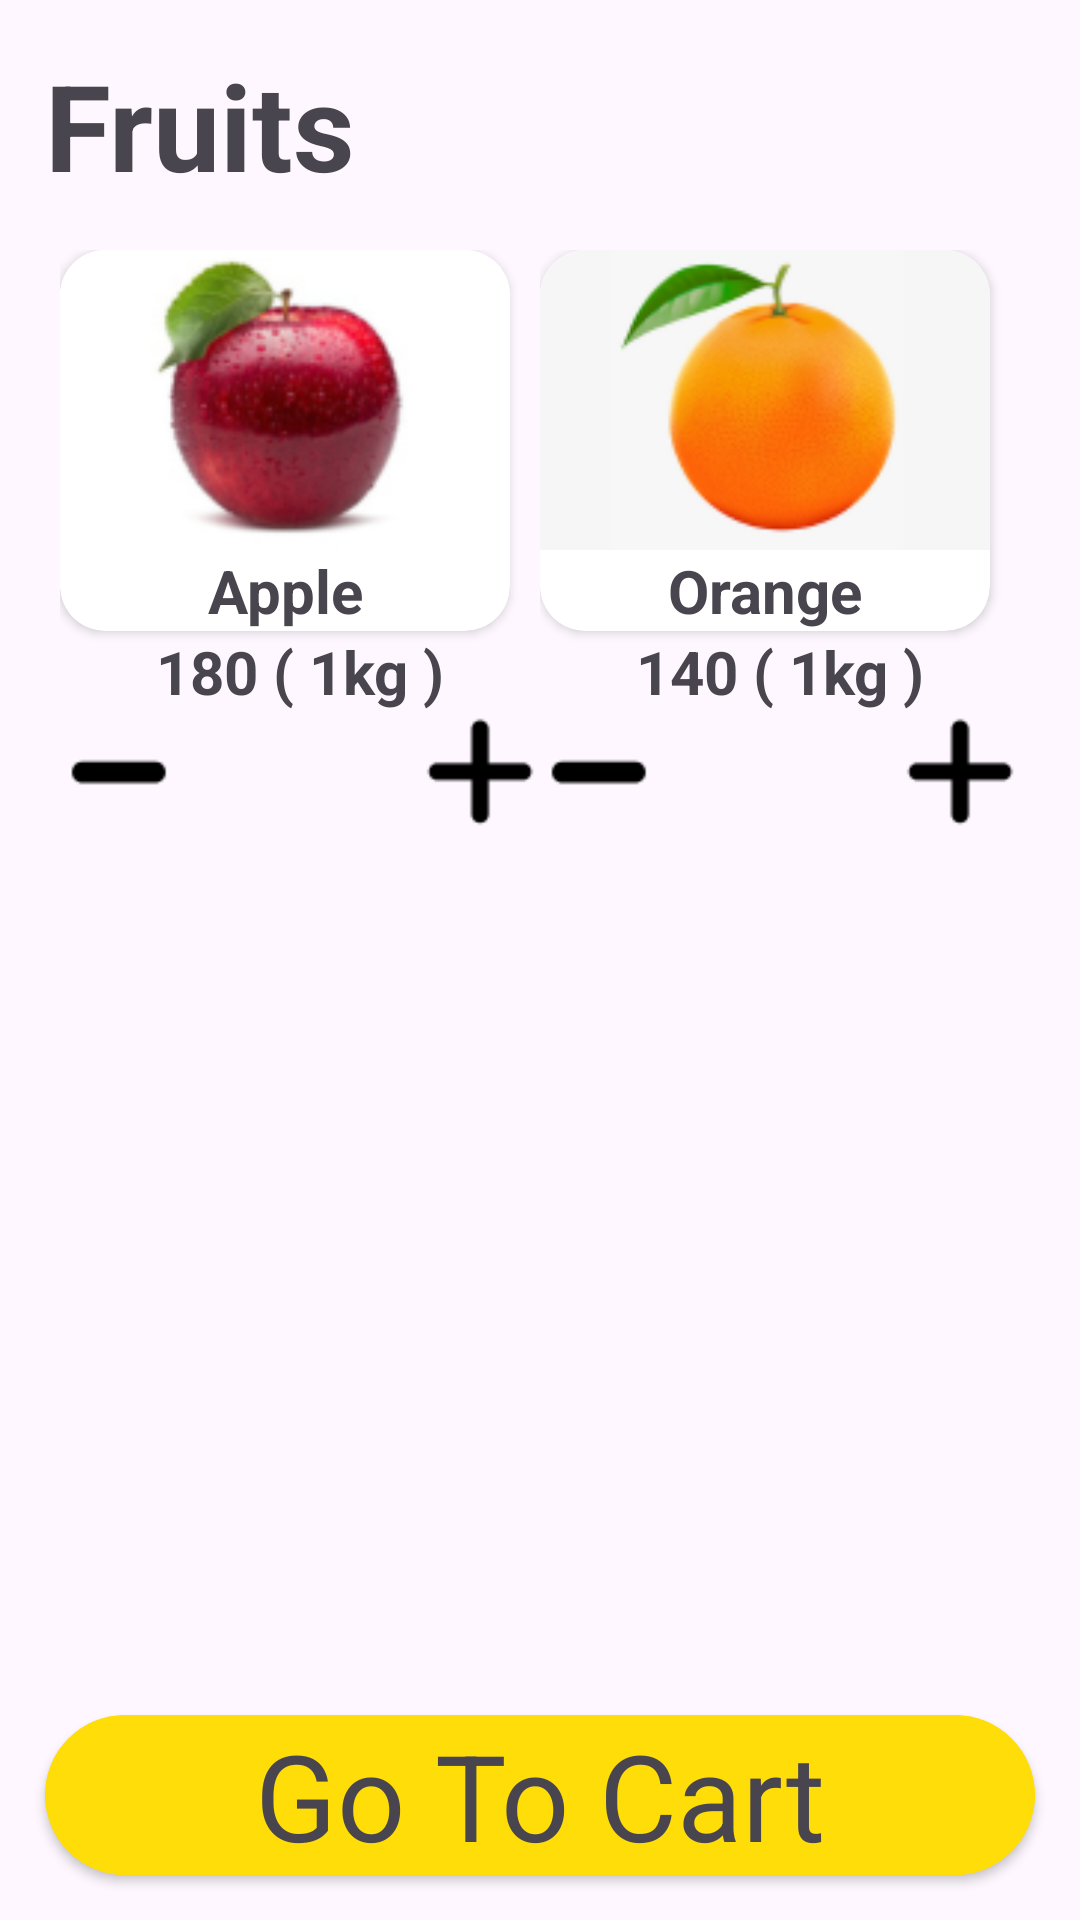

Locate icon controls on the screen. Image size 1080×1920, boxes as (x1, y1, x2, y2).
add: (427, 719, 533, 825), (907, 719, 1013, 825)
minus: (71, 760, 167, 785), (551, 760, 647, 785)
